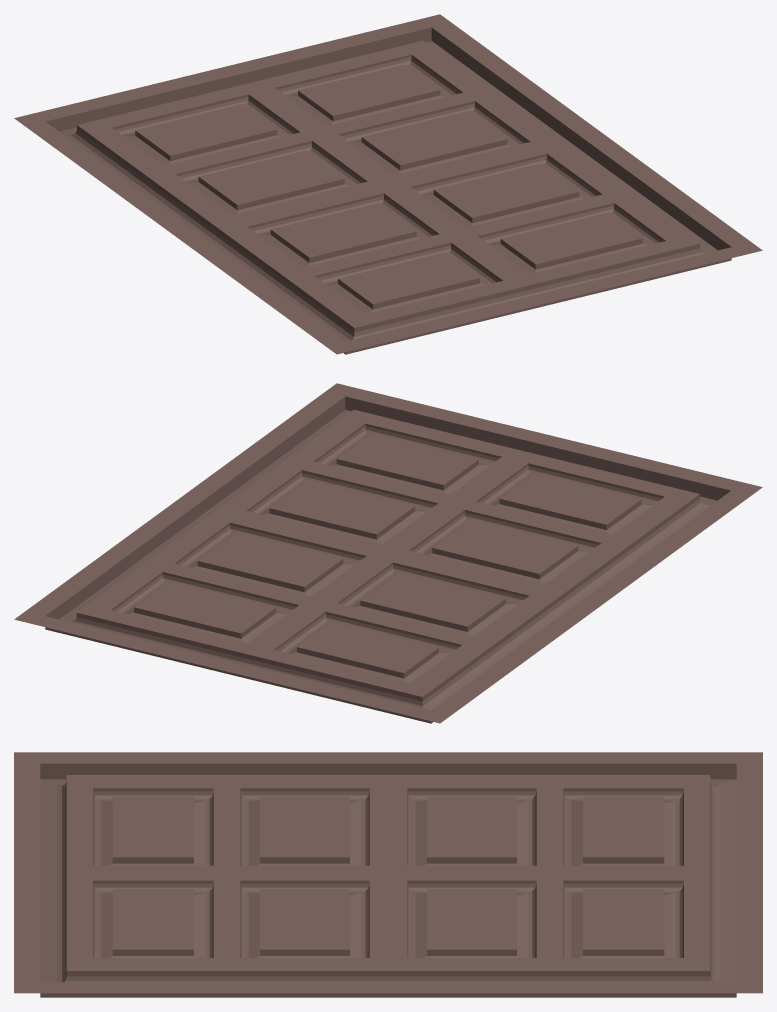
Rendered from roof.fbx.
3 views of the same model, one above another, from view 1: azimuth 30°, elevation 25°; view 2: azimuth 150°, elevation 25°; view 3: azimuth 270°, elevation 25° (orthographic). The views are drawn at different scales.
Parts seen in each view (by area): view 1: Plane; view 2: Plane; view 3: Plane.
Boxes of the visible parts, x1=… form: Plane: x1=14, y1=14, x2=762, y2=354; Plane: x1=14, y1=383, x2=762, y2=723; Plane: x1=14, y1=752, x2=762, y2=997.
Size of the model in its own units: 797 by 23.97 by 1046.
